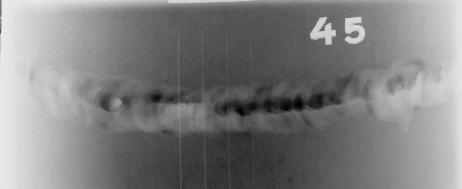FF: (97, 88, 187, 140), (331, 67, 441, 106), (207, 90, 323, 121)
